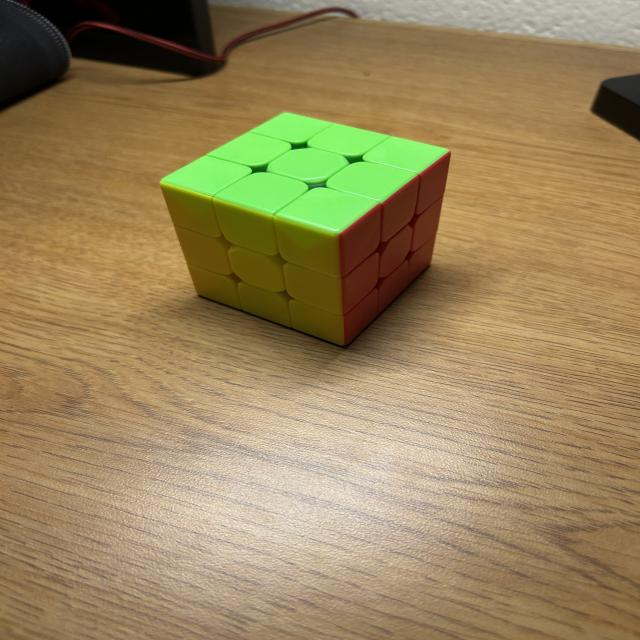Rubiks Cube: (159, 110, 448, 349)
